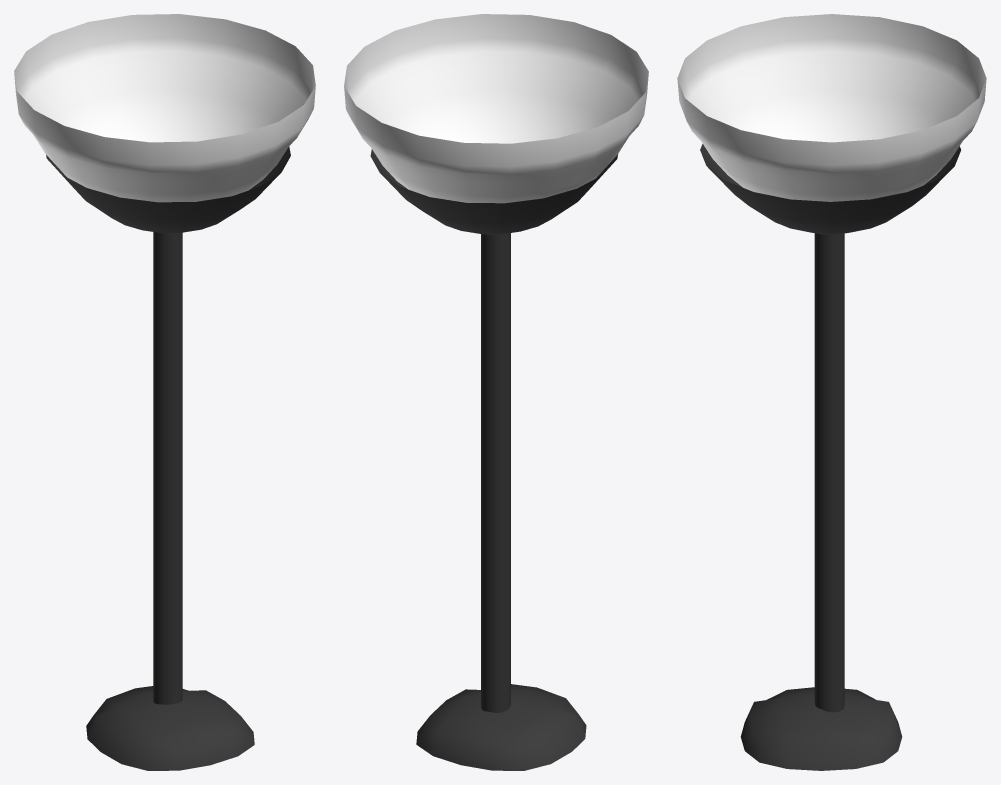
Rendered from lampara.obj.
3 views of the same model, side by side, from view 1: azimuth 30°, elevation 25°; view 2: azimuth 150°, elevation 25°; view 3: azimuth 270°, elevation 25° (orthographic).
Visible parts, largest first — view 1: polySurface1 lamp:pSphere3, lamp:pSphere3 polySurface3, lamp:pSphere3 polySurface4, lamp:pSphere3 polySurface2; view 2: polySurface1 lamp:pSphere3, lamp:pSphere3 polySurface3, lamp:pSphere3 polySurface4, lamp:pSphere3 polySurface2; view 3: polySurface1 lamp:pSphere3, lamp:pSphere3 polySurface3, lamp:pSphere3 polySurface4, lamp:pSphere3 polySurface2.
Part boxes in pixels (bbox=[...]): polySurface1 lamp:pSphere3: bbox=[14, 14, 315, 202]; lamp:pSphere3 polySurface3: bbox=[153, 232, 182, 704]; lamp:pSphere3 polySurface4: bbox=[86, 686, 254, 770]; lamp:pSphere3 polySurface2: bbox=[46, 146, 290, 233]; polySurface1 lamp:pSphere3: bbox=[344, 14, 648, 203]; lamp:pSphere3 polySurface3: bbox=[481, 233, 510, 712]; lamp:pSphere3 polySurface4: bbox=[416, 684, 586, 770]; lamp:pSphere3 polySurface2: bbox=[370, 149, 617, 234]; polySurface1 lamp:pSphere3: bbox=[677, 14, 986, 201]; lamp:pSphere3 polySurface3: bbox=[814, 233, 844, 712]; lamp:pSphere3 polySurface4: bbox=[740, 687, 902, 770]; lamp:pSphere3 polySurface2: bbox=[700, 144, 960, 234].
Bounding box in the file's own units: 0.5811 × 1.39 × 0.5912.
